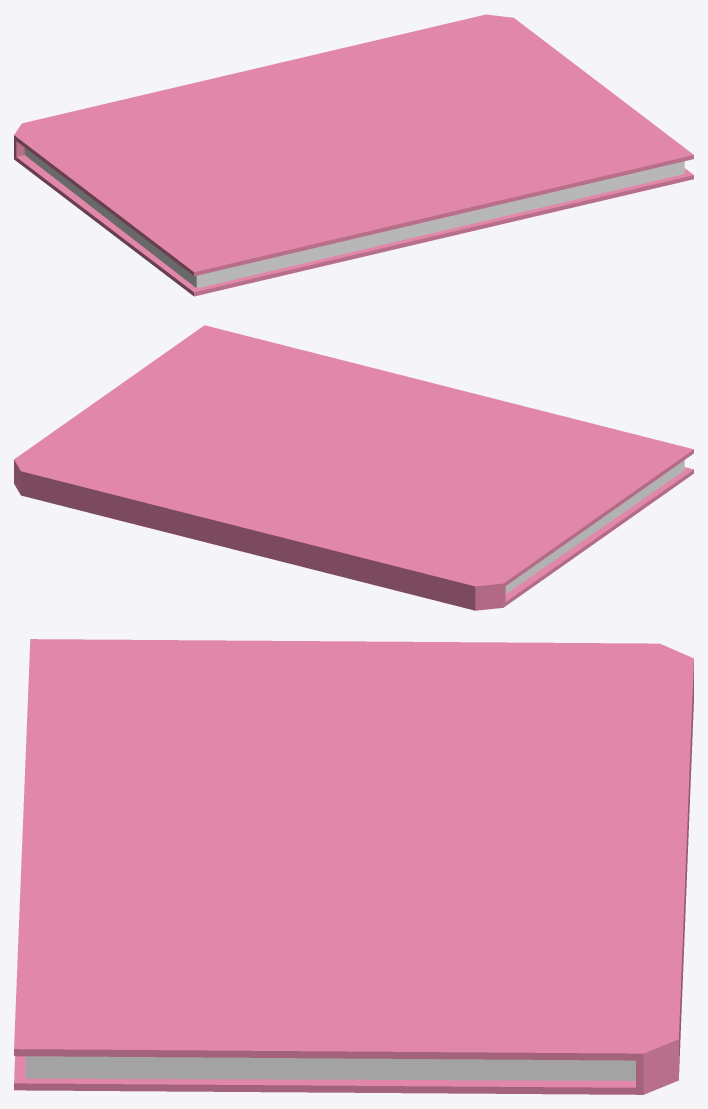
The model's file is Note Book_5.fbx.
3 renders of one model, top to bottom at view 1: azimuth 30°, elevation 25°; view 2: azimuth 150°, elevation 25°; view 3: azimuth 270°, elevation 25°, orthographic. The views are drawn at different scales.
Parts seen in each view (by area): view 1: Note Book_5; view 2: Note Book_5; view 3: Note Book_5.
Part boxes in pixels (<box>): Note Book_5: <box>14,14,693,296</box>; Note Book_5: <box>14,325,693,610</box>; Note Book_5: <box>14,639,693,1094</box>.
Size of the model in its own units: 0.2089 by 0.0097 by 0.1448.
